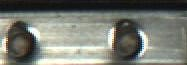joints: (90, 18, 149, 63), (0, 18, 43, 64)
